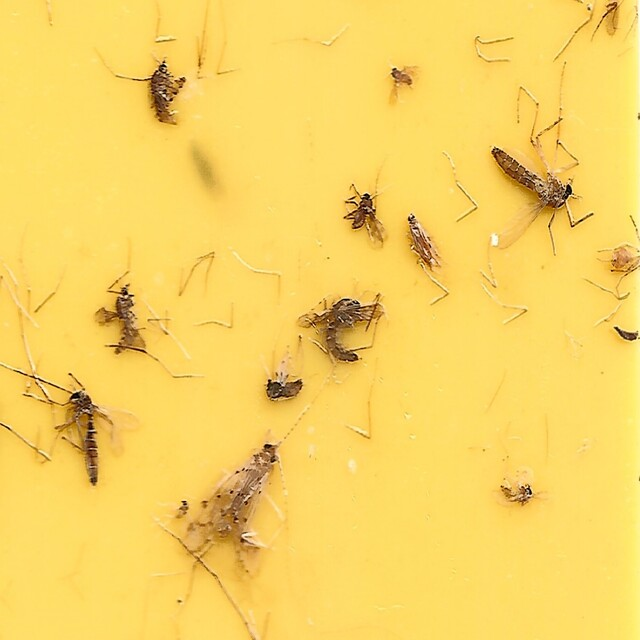Nematocera: (482, 89, 593, 258), (47, 382, 141, 489), (298, 290, 387, 367), (94, 283, 150, 358), (342, 184, 389, 255), (263, 349, 305, 402), (385, 61, 419, 108)
Plecoptera: (184, 381, 328, 579)
Trichoptera: (406, 210, 444, 276)
